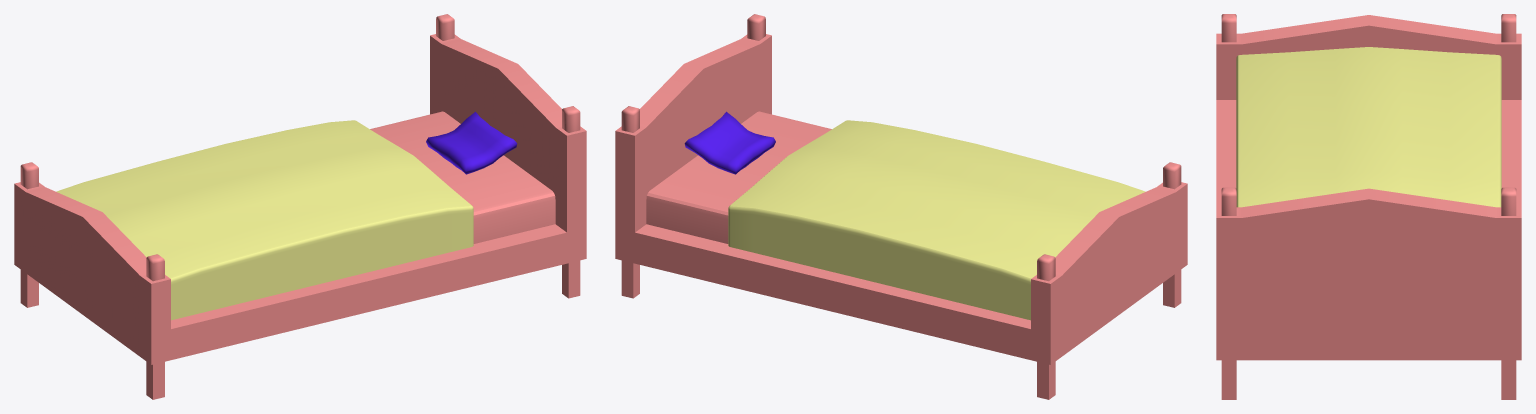
The model's file is Bed.FBX.
The picture shows the model from 3 angles, left to right: view 1: azimuth 30°, elevation 25°; view 2: azimuth 150°, elevation 25°; view 3: azimuth 270°, elevation 25°; orthographic projection. The views are drawn at different scales.
Visible parts, largest first — view 1: Box001, Plane001, Box002; view 2: Box001, Plane001, Box002; view 3: Box001, Plane001.
Part boxes in pixels (x1=…): Box001: x1=14, y1=14, x2=586, y2=399; Plane001: x1=56, y1=120, x2=473, y2=320; Box002: x1=426, y1=111, x2=517, y2=174; Box001: x1=615, y1=14, x2=1187, y2=399; Plane001: x1=728, y1=120, x2=1145, y2=320; Box002: x1=684, y1=111, x2=775, y2=174; Box001: x1=1216, y1=14, x2=1521, y2=399; Plane001: x1=1236, y1=47, x2=1501, y2=207.
Size of the model in its own units: 3.3 by 1.35 by 1.8.
